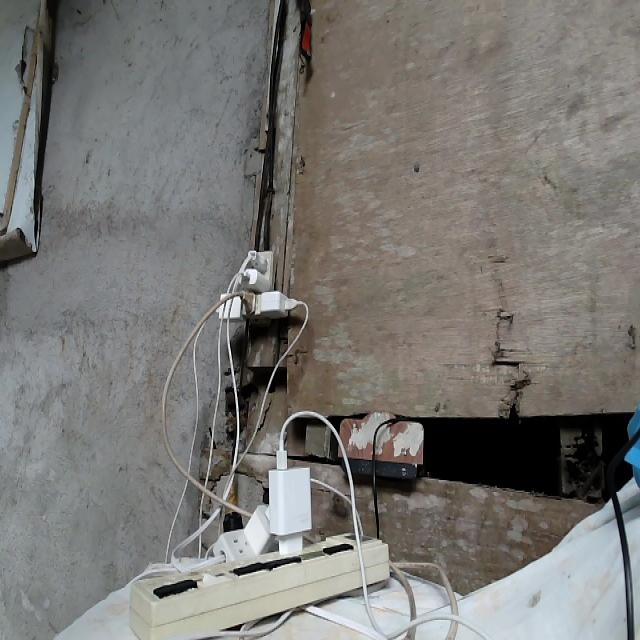-: (211, 239, 300, 328)
